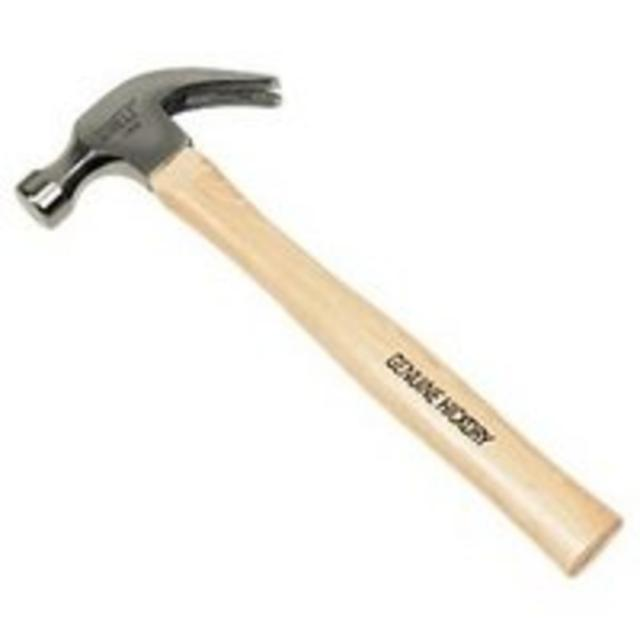hammer: (0, 55, 628, 590)
